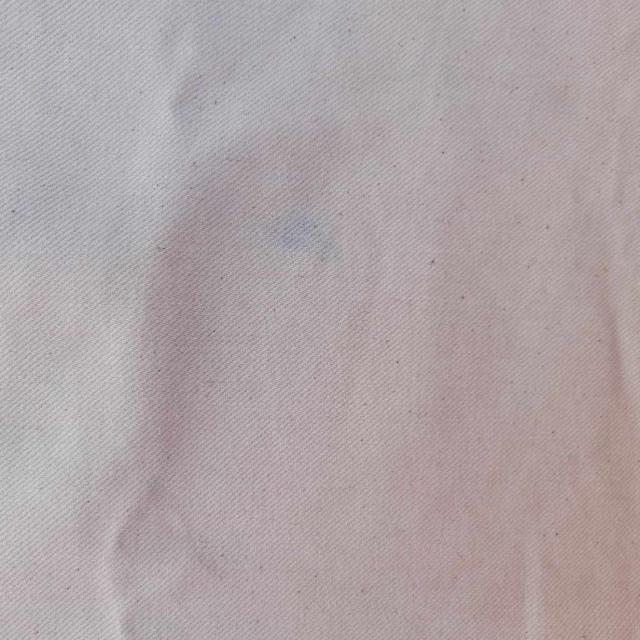taaaches: (275, 198, 355, 270)
